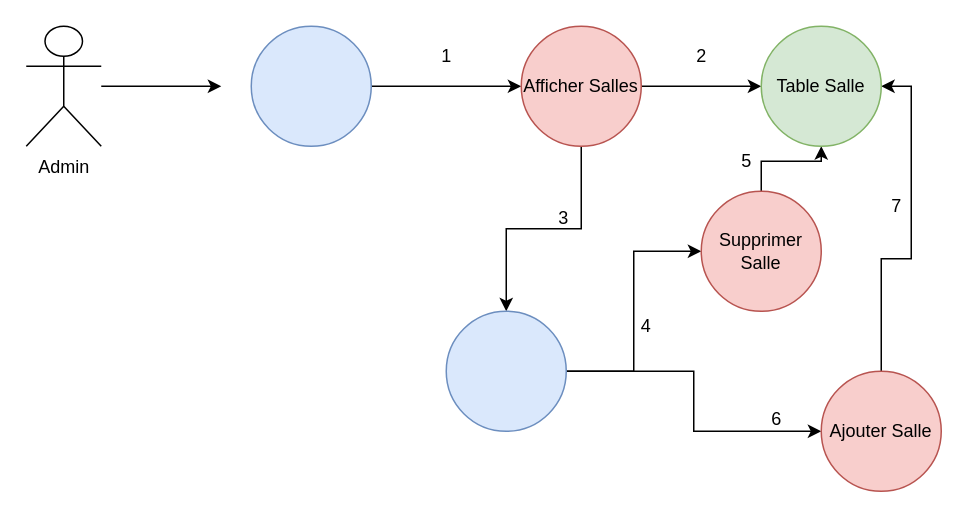
The diagram is 968 pixels wide and 518 high, and some of its shapes have lost their labels. The shapes that lost their labels are listed below. From the top down, each one's centre as x and y in pixels, then its label:
the point at 310,85: Gestion Salles
the point at 505,370: Salles
